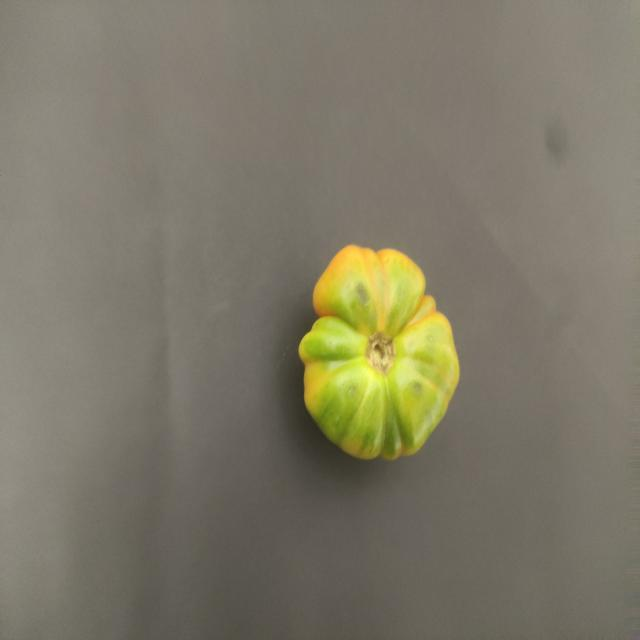yesil: (280, 228, 478, 474)
